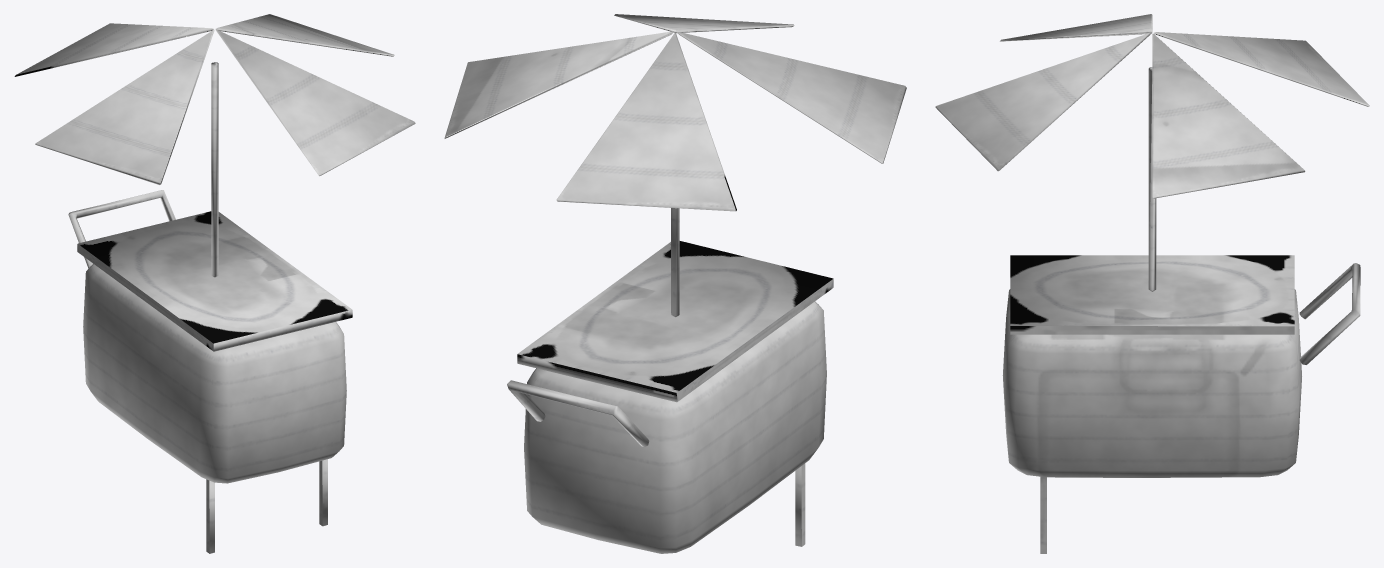
File: CarritoPanchos_C1.fbx
The picture shows the model from 3 angles, left to right: view 1: azimuth 30°, elevation 25°; view 2: azimuth 150°, elevation 25°; view 3: azimuth 270°, elevation 25°; orthographic projection. The views are drawn at different scales.
Visible parts, largest first — view 1: Civ_CarritoPanchos_C1; view 2: Civ_CarritoPanchos_C1; view 3: Civ_CarritoPanchos_C1.
Part boxes in pixels (x1,y1,x2,y2): Civ_CarritoPanchos_C1: [14, 14, 415, 553]; Civ_CarritoPanchos_C1: [444, 14, 906, 553]; Civ_CarritoPanchos_C1: [935, 14, 1369, 553].
Size of the model in its own units: 5.7 by 7.11 by 5.7.
